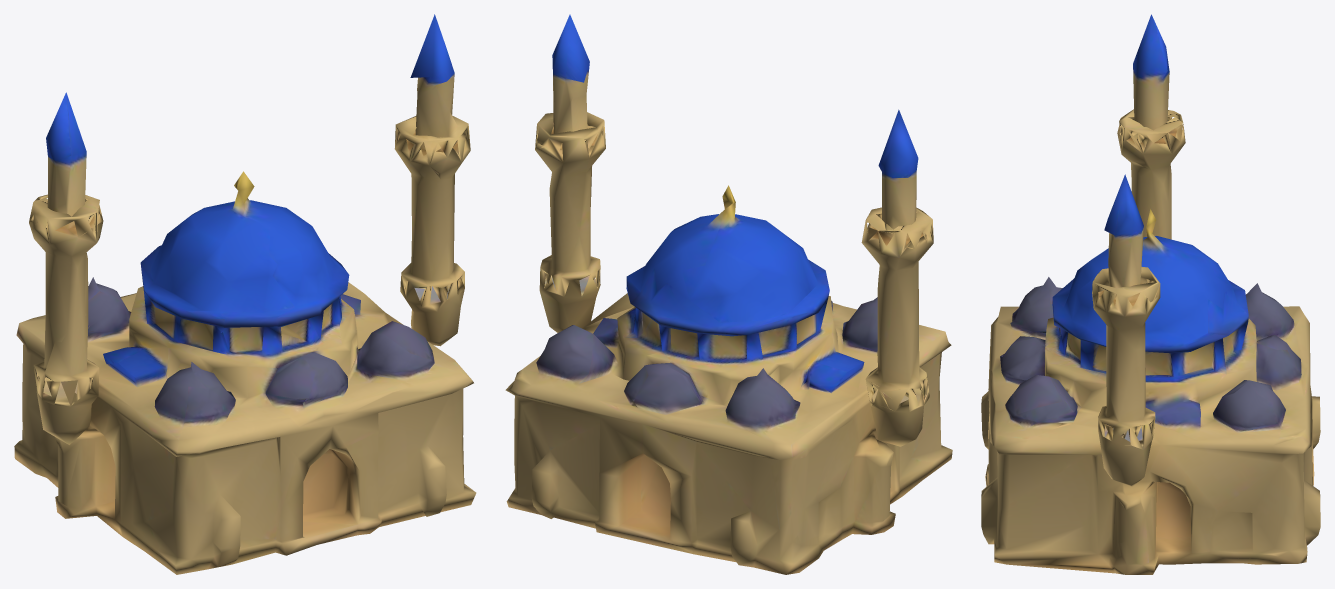
File: mosque.glb
3 renders of one model, left to right at view 1: azimuth 30°, elevation 25°; view 2: azimuth 150°, elevation 25°; view 3: azimuth 270°, elevation 25°, orthographic. The views are drawn at different scales.
Visible parts, largest first — view 1: tripo_node_6f31ca1e-494c-42ff-a766-c09264e57e18; view 2: tripo_node_6f31ca1e-494c-42ff-a766-c09264e57e18; view 3: tripo_node_6f31ca1e-494c-42ff-a766-c09264e57e18.
Boxes of the visible parts, x1,y1,x2,y2 form: tripo_node_6f31ca1e-494c-42ff-a766-c09264e57e18: (14,14,476,574); tripo_node_6f31ca1e-494c-42ff-a766-c09264e57e18: (505,14,952,574); tripo_node_6f31ca1e-494c-42ff-a766-c09264e57e18: (981,14,1320,574).
Bounding box in the file's own units: 14 × 13.84 × 10.53.
1 material, 1 textured.
